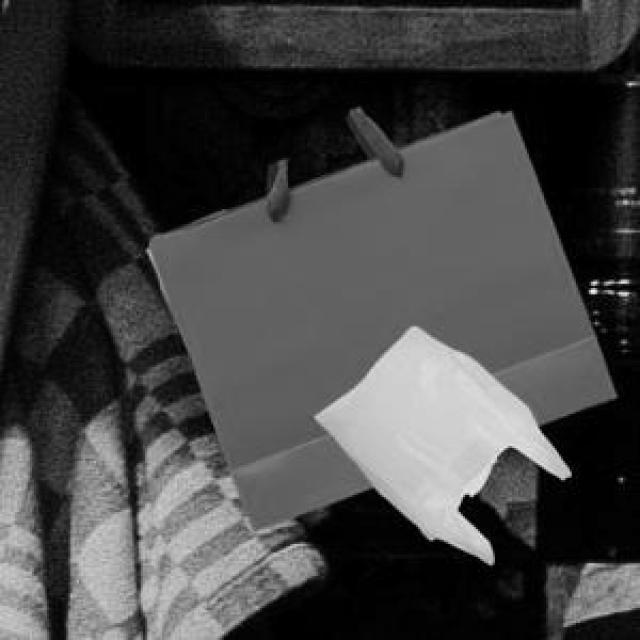paper: (143, 105, 612, 527)
